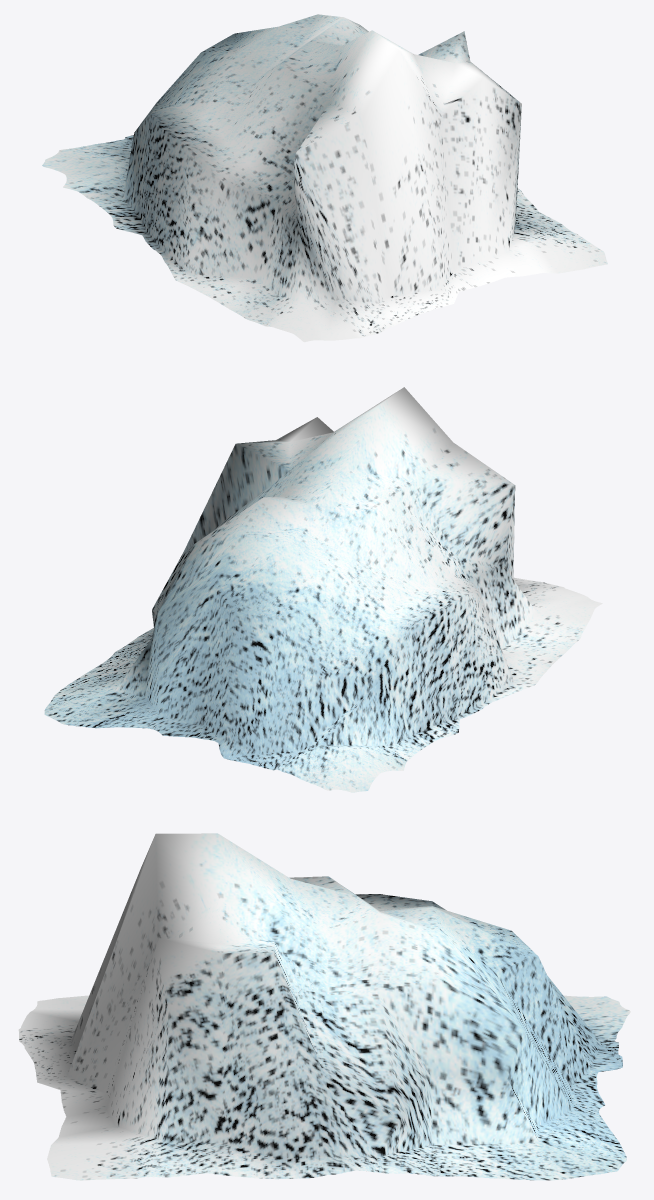
Rendered from SnowPile2.fbx.
3 renders of one model, top to bottom at view 1: azimuth 30°, elevation 25°; view 2: azimuth 150°, elevation 25°; view 3: azimuth 270°, elevation 25°, orthographic. The views are drawn at different scales.
Parts seen in each view (by area): view 1: pPlane1; view 2: pPlane1; view 3: pPlane1.
Part boxes in pixels (x1=…): pPlane1: x1=42, y1=14, x2=607, y2=342; pPlane1: x1=44, y1=387, x2=602, y2=792; pPlane1: x1=18, y1=833, x2=630, y2=1180.
Size of the model in its own units: 321 by 187 by 421.
